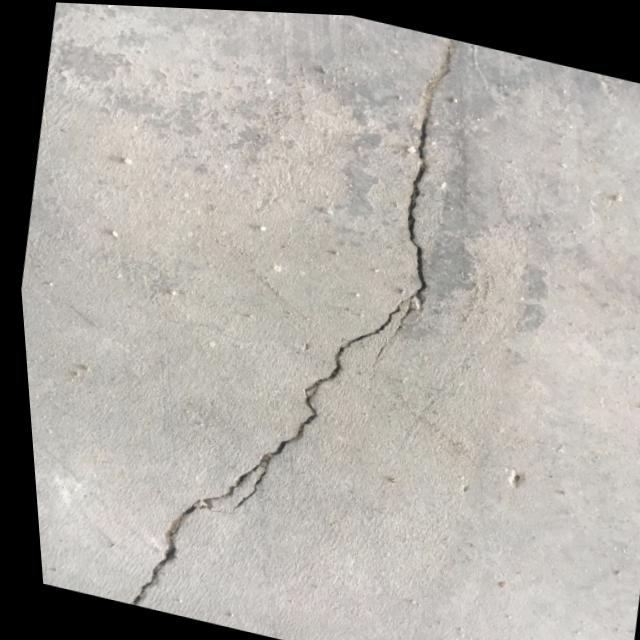Crack: (239, 8, 513, 489), (114, 422, 275, 629)
